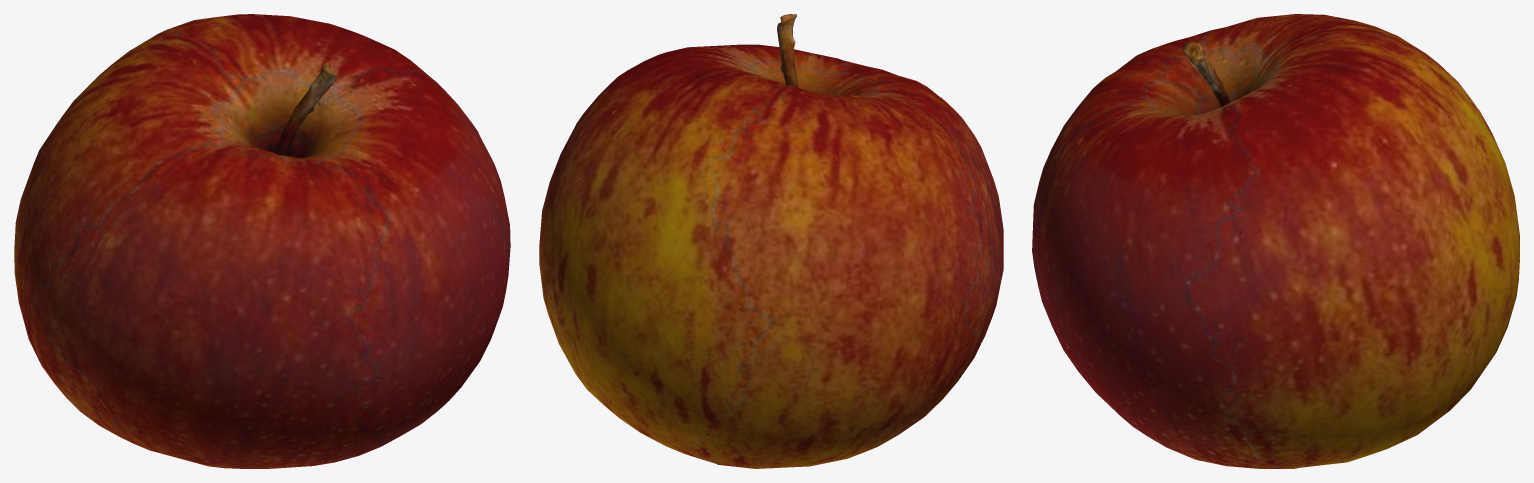
Rendered from apple.glb.
3 views of the same model, side by side, from view 1: azimuth 30°, elevation 25°; view 2: azimuth 150°, elevation 25°; view 3: azimuth 270°, elevation 25° (orthographic). The views are drawn at different scales.
Visible parts, largest first — view 1: food_apple_01; view 2: food_apple_01; view 3: food_apple_01.
Boxes of the visible parts, box(x1,y1,x2,y2) form: food_apple_01: box(14, 14, 510, 468); food_apple_01: box(539, 14, 1003, 468); food_apple_01: box(1032, 14, 1519, 468).
Size of the model in its own units: 0.0976 by 0.0853 by 0.0959.
Materials: 1 (1 with a texture image).
